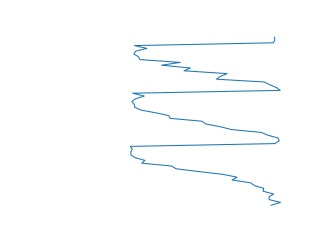distributaryMouthBar: (127, 36, 289, 209)
